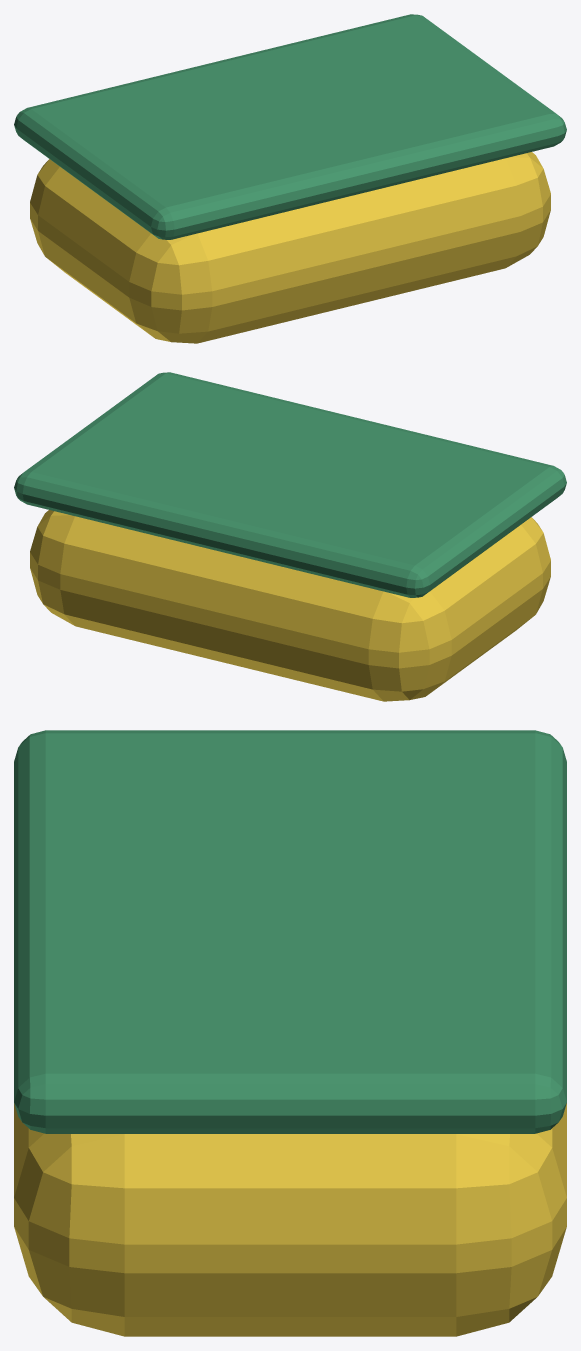
Rendered from dexverse_authored_sponge.glb.
3 renders of one model, top to bottom at view 1: azimuth 30°, elevation 25°; view 2: azimuth 150°, elevation 25°; view 3: azimuth 270°, elevation 25°, orthographic. The views are drawn at different scales.
Parts seen in each view (by area): view 1: sponge_scrub, sponge_body; view 2: sponge_scrub, sponge_body; view 3: sponge_scrub, sponge_body.
Part boxes in pixels (bbox=[...]): sponge_scrub: bbox=[14, 14, 566, 239]; sponge_body: bbox=[30, 152, 550, 343]; sponge_scrub: bbox=[14, 372, 566, 597]; sponge_body: bbox=[30, 510, 550, 701]; sponge_scrub: bbox=[14, 730, 566, 1133]; sponge_body: bbox=[14, 1103, 566, 1336].
Size of the model in its own units: 0.11 by 0.04 by 0.07.
